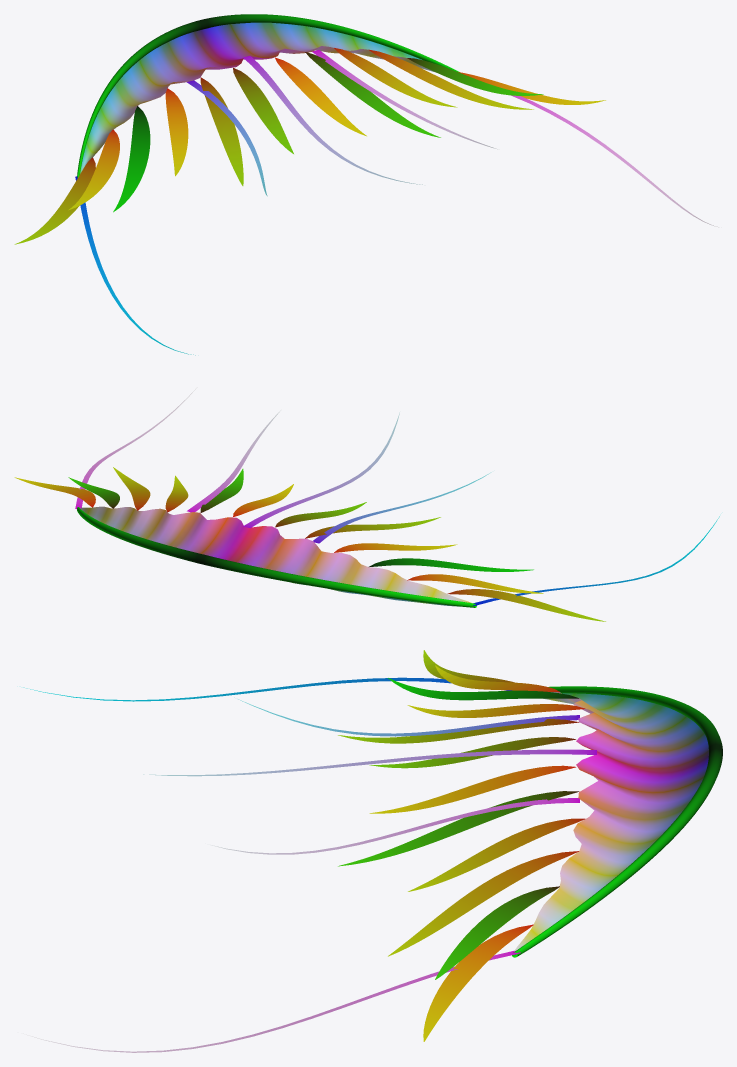
Rendered from kite.glb.
The picture shows the model from 3 angles, top to bottom: view 1: azimuth 30°, elevation 25°; view 2: azimuth 150°, elevation 25°; view 3: azimuth 270°, elevation 25°; orthographic projection. The views are drawn at different scales.
Parts seen in each view (by area): view 1: ribbons, sail, rim; view 2: sail, ribbons, rim; view 3: ribbons, sail, rim.
Boxes of the visible parts, box(x1,y1,x2,y2) form: ribbons: box(14, 48, 718, 355); sail: box(80, 22, 435, 173); rim: box(77, 14, 459, 177); sail: box(81, 506, 475, 606); ribbons: box(14, 387, 719, 621); rim: box(77, 507, 476, 607); ribbons: box(23, 650, 596, 1052); sail: box(514, 692, 708, 954); rim: box(512, 686, 722, 957).
Size of the model in its own units: 12.44 by 1.93 by 9.51.
